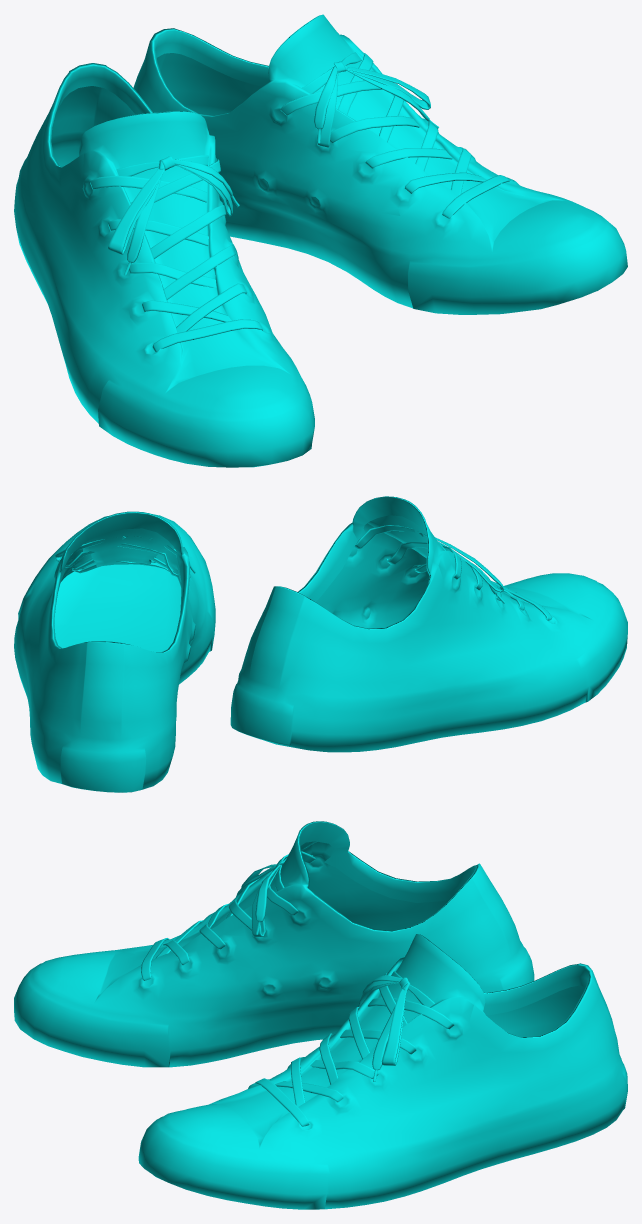
Rendered from shoe.fbx.
3 renders of one model, top to bottom at view 1: azimuth 30°, elevation 25°; view 2: azimuth 150°, elevation 25°; view 3: azimuth 270°, elevation 25°, orthographic. The views are drawn at different scales.
Visible parts, largest first — view 1: pose:polySurface1; view 2: pose:polySurface1; view 3: pose:polySurface1.
Part boxes in pixels (x1,y1,x2,y2): pose:polySurface1: (14,14,627,467); pose:polySurface1: (14,496,627,792); pose:polySurface1: (14,821,627,1209).
Bounding box in the file's own units: 29.92 × 12.84 × 32.64.
